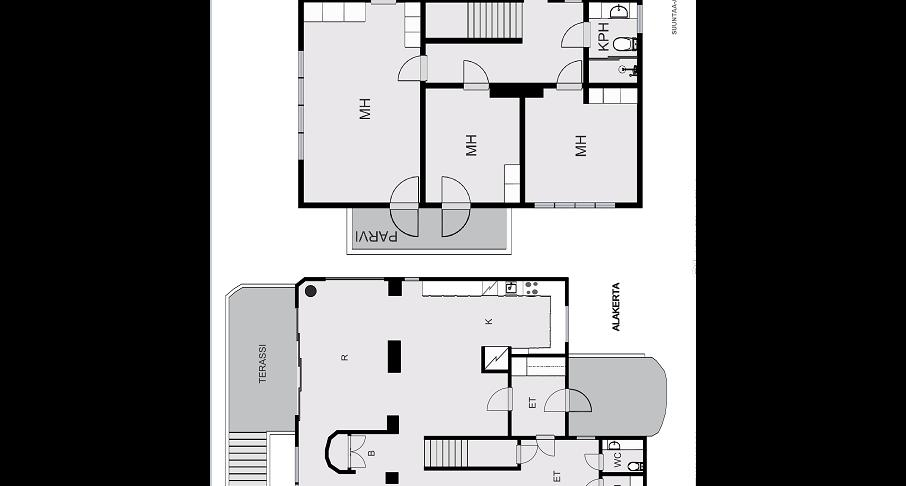bathroom: (586, 1, 640, 57), (598, 438, 644, 472)
door: (436, 202, 476, 238), (438, 172, 476, 208), (554, 54, 586, 92), (389, 200, 418, 241), (390, 172, 422, 208), (462, 56, 492, 92), (395, 52, 426, 84), (560, 20, 592, 50), (564, 384, 594, 414), (484, 385, 516, 412), (542, 384, 572, 412), (515, 440, 539, 464), (534, 432, 558, 456), (584, 450, 605, 471), (348, 450, 368, 469), (348, 434, 368, 452), (579, 474, 606, 486)
perimeter: (293, 276, 645, 486), (296, 0, 644, 208)
stairs: (224, 428, 269, 486), (466, 0, 524, 37), (424, 438, 469, 468)
window: (324, 270, 388, 284), (292, 444, 304, 483), (294, 74, 309, 104), (293, 47, 307, 77), (635, 0, 646, 37), (294, 131, 307, 162), (294, 103, 308, 131), (564, 300, 572, 344), (554, 196, 576, 210), (533, 198, 556, 210), (594, 199, 618, 210), (575, 197, 595, 210), (402, 272, 422, 281), (563, 0, 584, 7)
